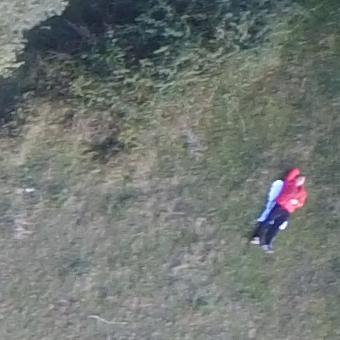human: (248, 167, 307, 252)
